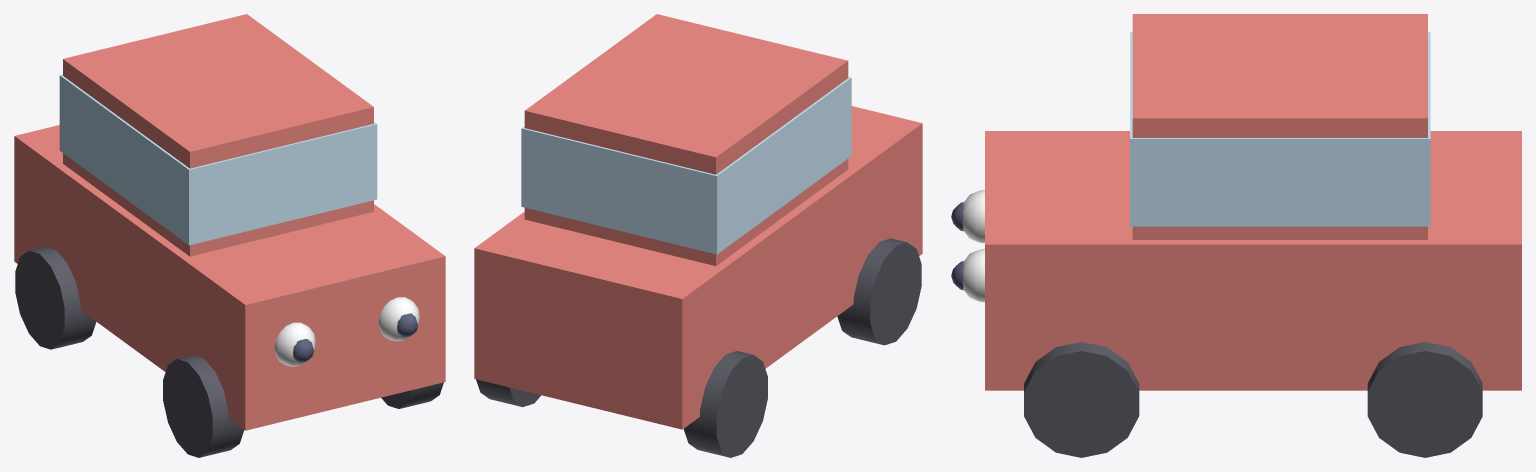
The model's file is mobil2.glb.
The picture shows the model from 3 angles, left to right: view 1: azimuth 30°, elevation 25°; view 2: azimuth 150°, elevation 25°; view 3: azimuth 270°, elevation 25°; orthographic projection. The views are drawn at different scales.
Visible parts, largest first — view 1: mobil2; view 2: mobil2; view 3: mobil2.
Boxes of the visible parts, x1,y1,x2,y2 form: mobil2: (14, 14, 445, 457); mobil2: (474, 14, 922, 457); mobil2: (951, 14, 1521, 457).
Bounding box in the file's own units: 0.58 × 0.67 × 1.06.
